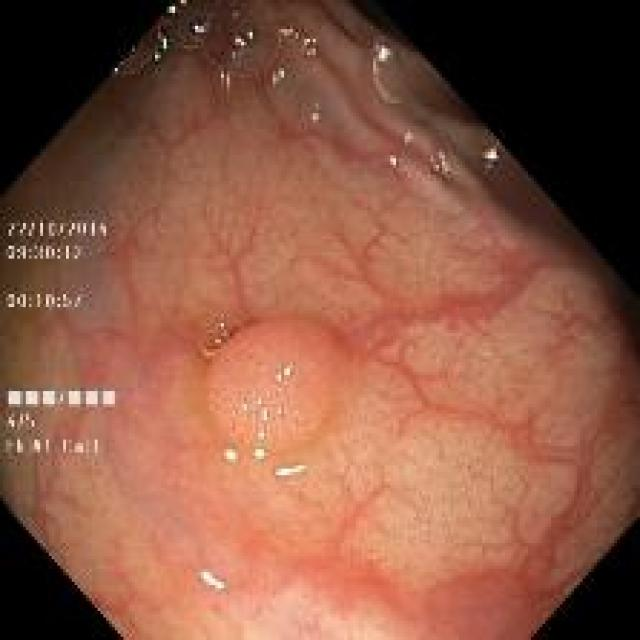Polyps: (207, 317, 355, 451)
